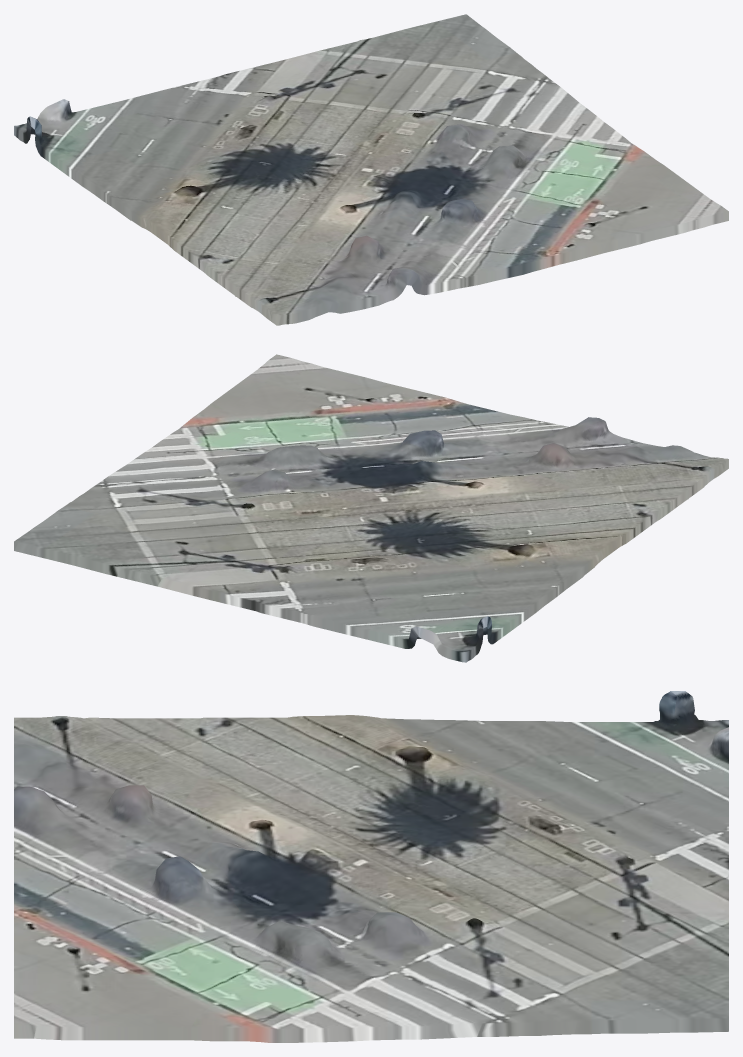
Rendered from z20-167794-405227-h0-yup-uvflip-v3-world.glb.
3 renders of one model, top to bottom at view 1: azimuth 30°, elevation 25°; view 2: azimuth 150°, elevation 25°; view 3: azimuth 270°, elevation 25°, orthographic. The views are drawn at different scales.
Size of the model in its own units: 30.16 by 2.44 by 30.32.
1 material, 1 textured.
